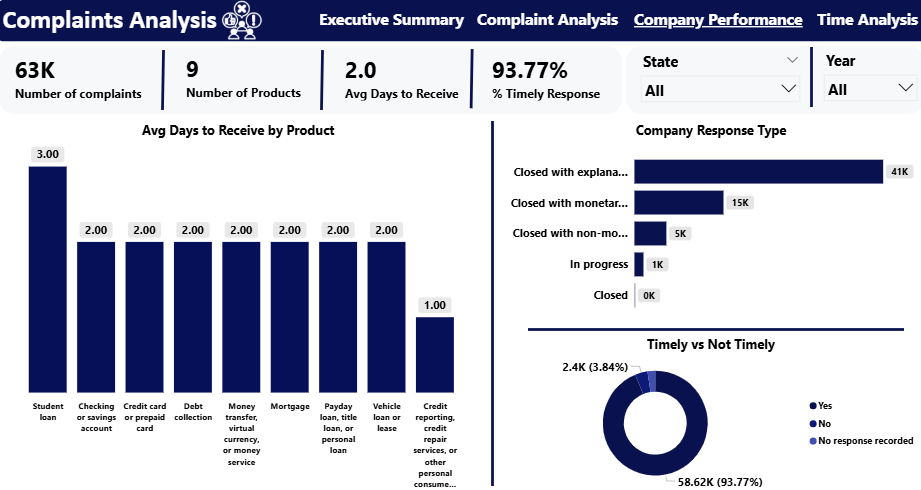

What the dashboard file says about the page in this screenshot:
{"tool":"powerbi","page":{"name":"Company Performance","canvas":[1336,722],"ordinal":3},"visuals":[{"type":"shape","box":[0,75.1,899.6,98.2],"z":0},{"type":"shape","box":[0,8.8,1335.9,59.9],"z":1000,"group":"g1"},{"type":"cardVisual","title":"j","fields":{"Data":["Measuress.Number of complaints"]},"box":[5.8,76.5,235.4,88.1],"z":1000},{"type":"shape","box":[197.8,80.9,78,86.6],"z":2000},{"type":"cardVisual","fields":{"Data":["Measuress.Number of Products"]},"box":[241.3,70.9,245.8,96.5],"z":3000},{"type":"cardVisual","fields":{"Data":["Measuress.Avg Days to Receive"]},"box":[470.5,67.9,292.5,104.1],"z":4000},{"type":"cardVisual","fields":{"Data":["Measuress.% Timely Response"]},"box":[683.1,68.6,217.1,104.1],"z":5000},{"type":"columnChart","title":"Avg Days to Receive by Product","fields":{"Category":["Complaints Analysis.Product"],"Y":["Measuress.Avg Days to Receive"]},"box":[0,183.4,690.9,539.1],"z":6000},{"type":"clusteredBarChart","title":"Company Response Type","fields":{"Category":["Complaints Analysis.Company response to consumer"],"Y":["CountNonNull(Complaints Analysis.Complaint ID)"]},"box":[720.6,183.4,615.1,293.1],"z":7000},{"type":"textbox","box":[0,8.7,326.3,60.6],"z":8000,"group":"g1"},{"type":"donutChart","title":"Timely vs Not Timely","fields":{"Y":["CountNonNull(Complaints Analysis.Complaint ID)"],"Category":["Complaints Analysis.Timely response?"]},"box":[720.6,492.4,615.1,229.6],"z":8000},{"type":"shape","box":[690.2,183.4,44.8,527.1],"z":9000},{"type":"shape","box":[763.9,476.5,542.9,15.9],"z":10000},{"type":"shape","box":[427.4,80.9,78,86.6],"z":11000},{"type":"shape","box":[643.9,79.9,76.9,86],"z":12000},{"type":"shape","box":[905.4,75.1,430.3,98.2],"z":13000},{"type":"slicer","fields":{"Values":["Complaints Analysis.Received Date.Variation.Date Hierarchy.Year"]},"box":[1181.2,76.1,154.5,86.6],"z":14000},{"type":"slicer","fields":{"Values":["Complaints Analysis.State name"]},"box":[916.9,77.5,249.8,83.8],"z":15000},{"type":"shape","box":[1166.8,76.1,13,86.6],"z":16000},{"type":"group","id":"g1","title":"Group 1","box":[0,8.7,1335.9,60.6],"z":17000},{"type":"image","box":[303.7,8.8,94.9,58.4],"z":17000,"group":"g1"},{"type":"actionButton","box":[462.1,18.8,209.4,40.4],"z":18000},{"type":"actionButton","title":"Time Analysis","box":[1181.2,20.8,154.5,36.1],"z":18000,"group":"g1"},{"type":"actionButton","box":[685.9,17.3,209.4,40.4],"z":19000},{"type":"actionButton","title":"Company Performance","box":[916.9,20.3,249.8,37.5],"z":19000,"group":"g1"},{"type":"actionButton","box":[1181.2,18.8,154.5,40.4],"z":20000},{"type":"actionButton","title":"Complaint Analysis","box":[690.2,20.3,209.4,37.5],"z":20000,"group":"g1"},{"type":"actionButton","title":"Executive Summary","box":[462.1,20.3,220.9,37.5],"z":21000,"group":"g1"}]}

Visuals, with their boxes in screenshot pixels (x1, y1, x2, y2), scaled from the page's 1336x722 canvas onto the 921x490 screenshot:
shape: x1=0, y1=51, x2=620, y2=118
shape: x1=0, y1=6, x2=920, y2=47
"j" cardVisual: x1=4, y1=52, x2=166, y2=112
shape: x1=136, y1=55, x2=190, y2=114
cardVisual - Measuress.Number of Products: x1=166, y1=48, x2=336, y2=114
cardVisual - Measuress.Avg Days to Receive: x1=324, y1=46, x2=526, y2=117
cardVisual - Measuress.% Timely Response: x1=471, y1=47, x2=621, y2=117
"Avg Days to Receive by Product" columnChart: x1=0, y1=124, x2=476, y2=489
"Company Response Type" clusteredBarChart: x1=497, y1=124, x2=920, y2=323
textbox: x1=0, y1=6, x2=225, y2=47
"Timely vs Not Timely" donutChart: x1=497, y1=334, x2=920, y2=489
shape: x1=476, y1=124, x2=507, y2=482
shape: x1=527, y1=323, x2=901, y2=334
shape: x1=295, y1=55, x2=348, y2=114
shape: x1=444, y1=54, x2=497, y2=113
shape: x1=624, y1=51, x2=920, y2=118
slicer - Complaints Analysis.Received Date.Variation.Date Hierarchy.Year: x1=814, y1=52, x2=920, y2=110
slicer - Complaints Analysis.State name: x1=632, y1=53, x2=804, y2=109
shape: x1=804, y1=52, x2=813, y2=110
"Group 1" group: x1=0, y1=6, x2=920, y2=47
image: x1=209, y1=6, x2=275, y2=46
actionButton: x1=319, y1=13, x2=463, y2=40
"Time Analysis" actionButton: x1=814, y1=14, x2=920, y2=39
actionButton: x1=473, y1=12, x2=617, y2=39
"Company Performance" actionButton: x1=632, y1=14, x2=804, y2=39
actionButton: x1=814, y1=13, x2=920, y2=40
"Complaint Analysis" actionButton: x1=476, y1=14, x2=620, y2=39
"Executive Summary" actionButton: x1=319, y1=14, x2=471, y2=39
